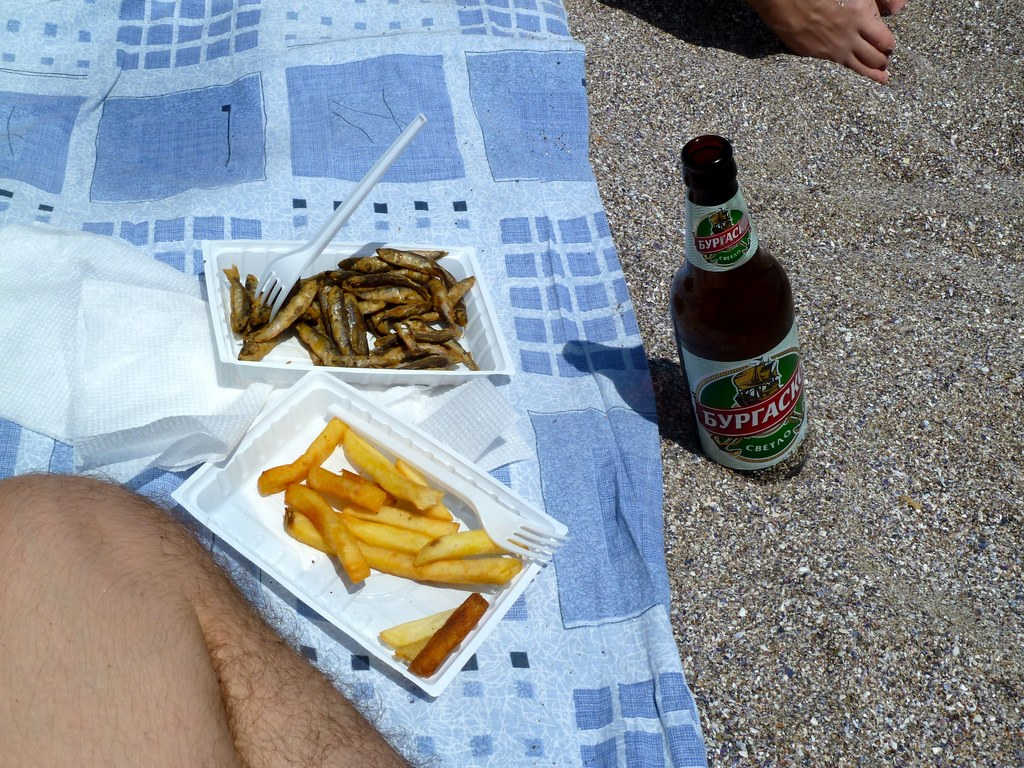French fries: (251, 419, 517, 616)
